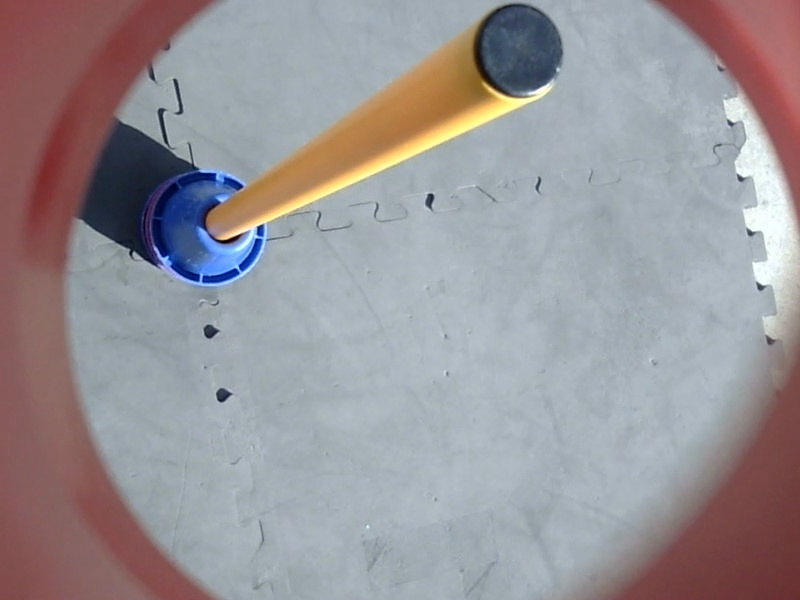tip: (466, 1, 570, 105)
